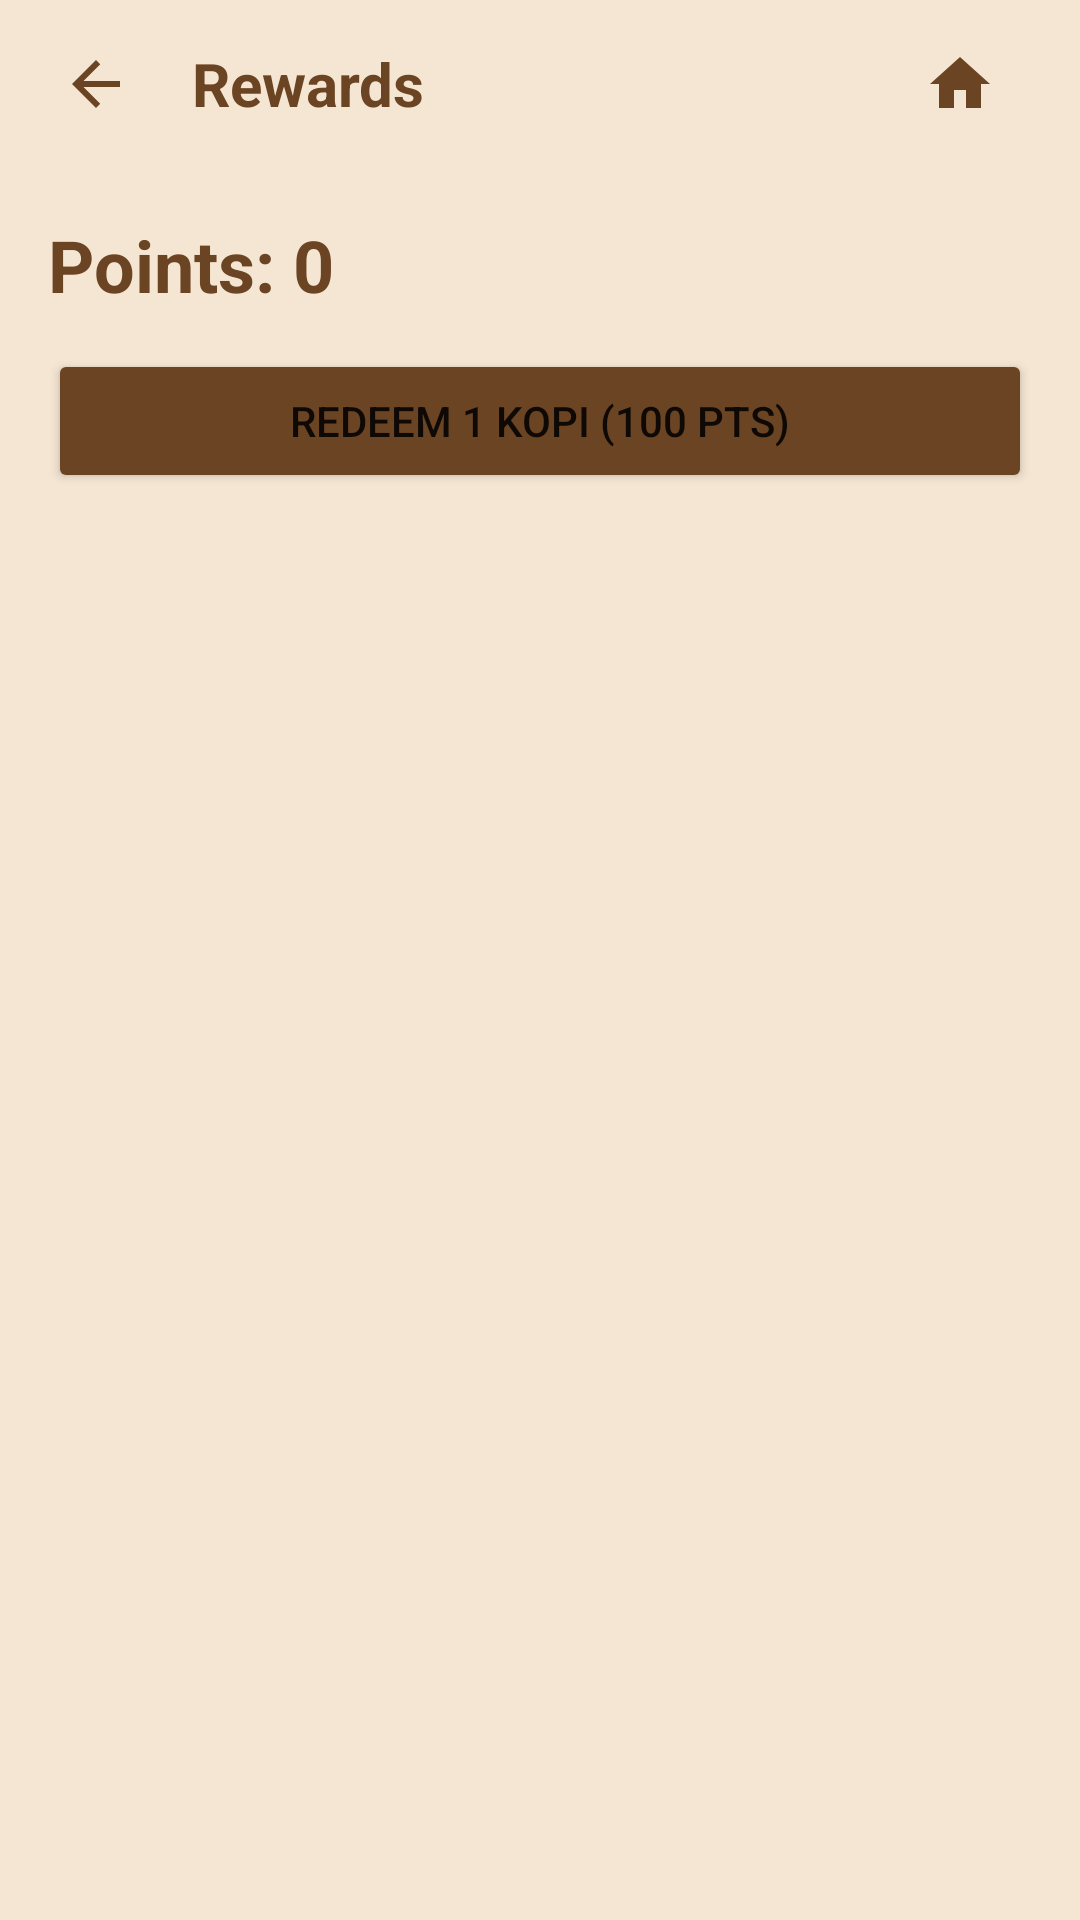

Icon click points for this 1080×1920 phone screenshot, format (x=x, y=y):
Back: (x=96, y=84)
Home: (x=960, y=82)
